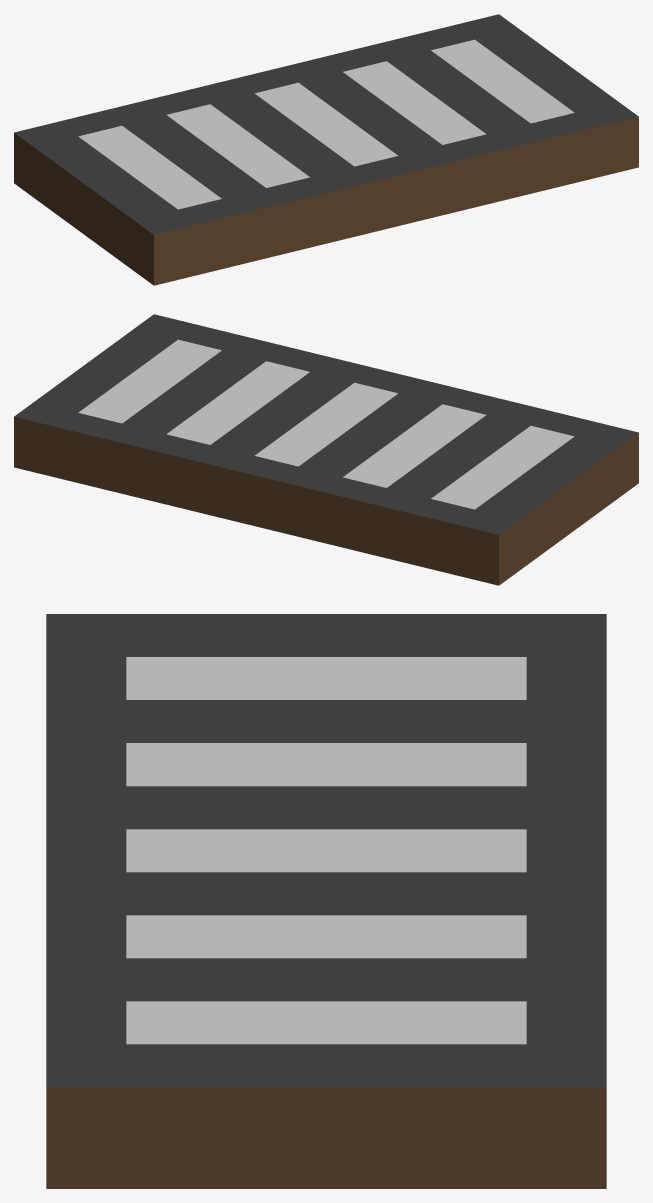
Rendered from cross_road_2.fbx.
3 views of the same model, one above another, from view 1: azimuth 30°, elevation 25°; view 2: azimuth 150°, elevation 25°; view 3: azimuth 270°, elevation 25° (orthographic). The views are drawn at different scales.
Parts seen in each view (by area): view 1: Cube.007; view 2: Cube.007; view 3: Cube.007.
Part boxes in pixels (<box>): Cube.007: <box>14,14,638,285</box>; Cube.007: <box>14,314,638,585</box>; Cube.007: <box>46,614,606,1188</box>.
Bounding box in the file's own units: 2000 × 200 × 1000.
